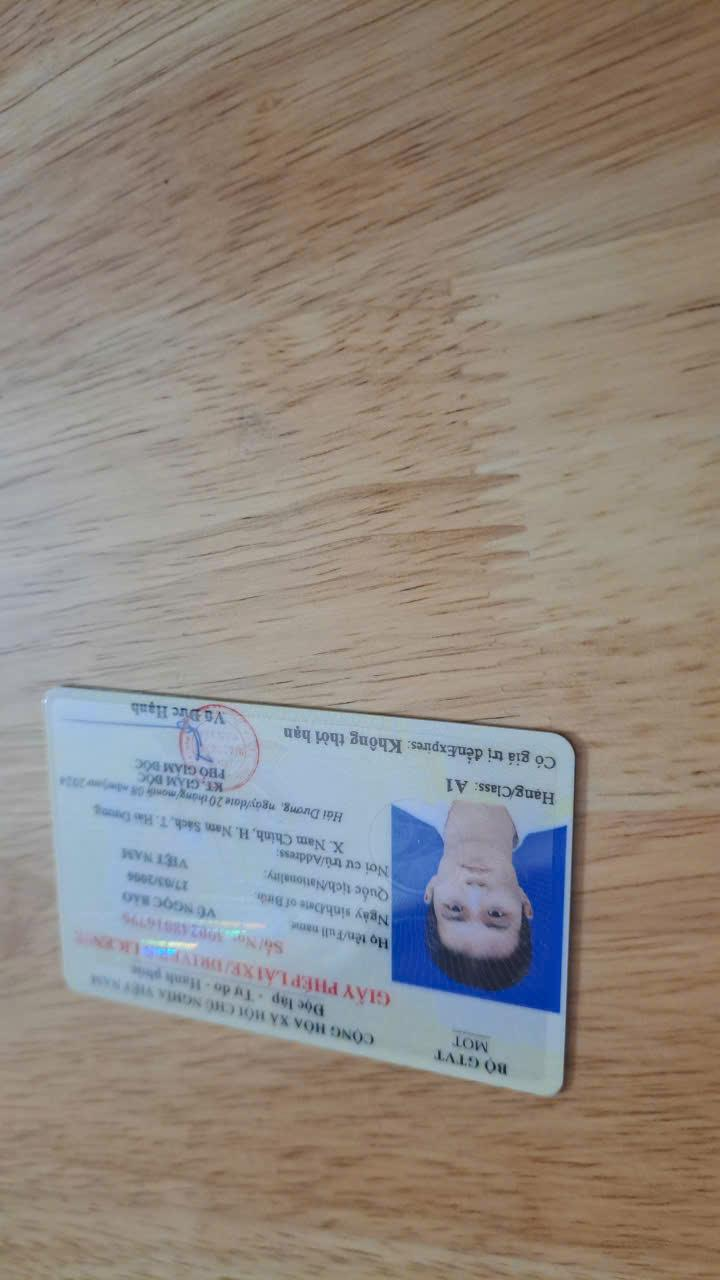gplx: (38, 675, 580, 1118)
